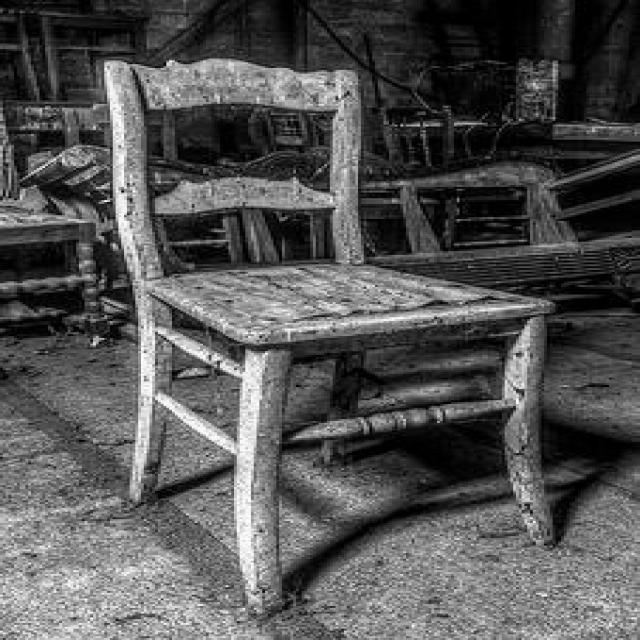chair: (83, 61, 560, 614)
